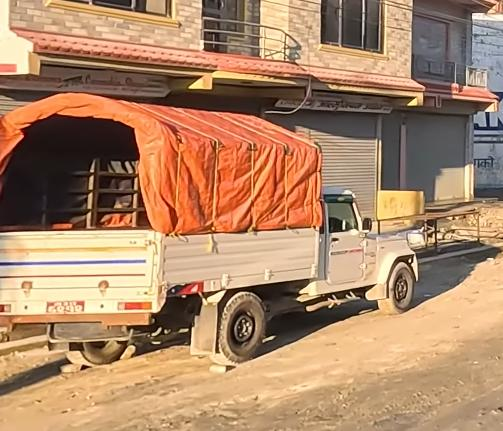transport_vehicle: (5, 91, 434, 362)
